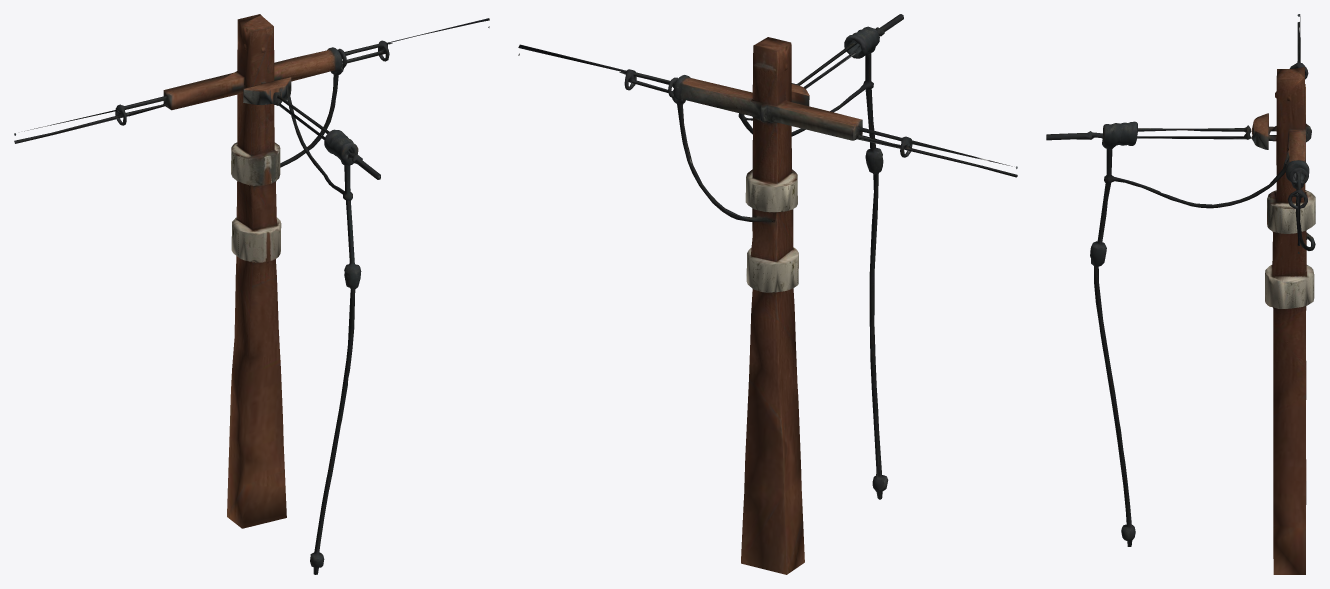
The model's file is pole.glb.
The picture shows the model from 3 angles, left to right: view 1: azimuth 30°, elevation 25°; view 2: azimuth 150°, elevation 25°; view 3: azimuth 270°, elevation 25°; orthographic projection. The views are drawn at different scales.
Size of the model in its own units: 1.9 by 1.89 by 0.9411.
1 material, 1 textured.
